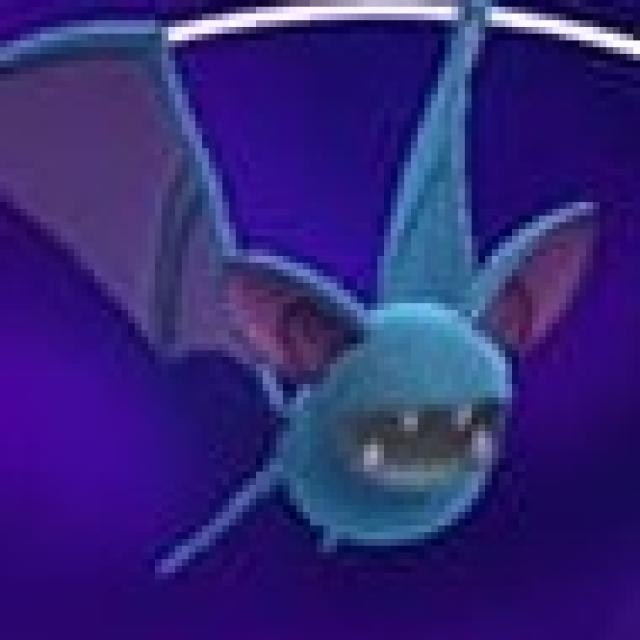Zubat: (153, 154, 606, 566)
